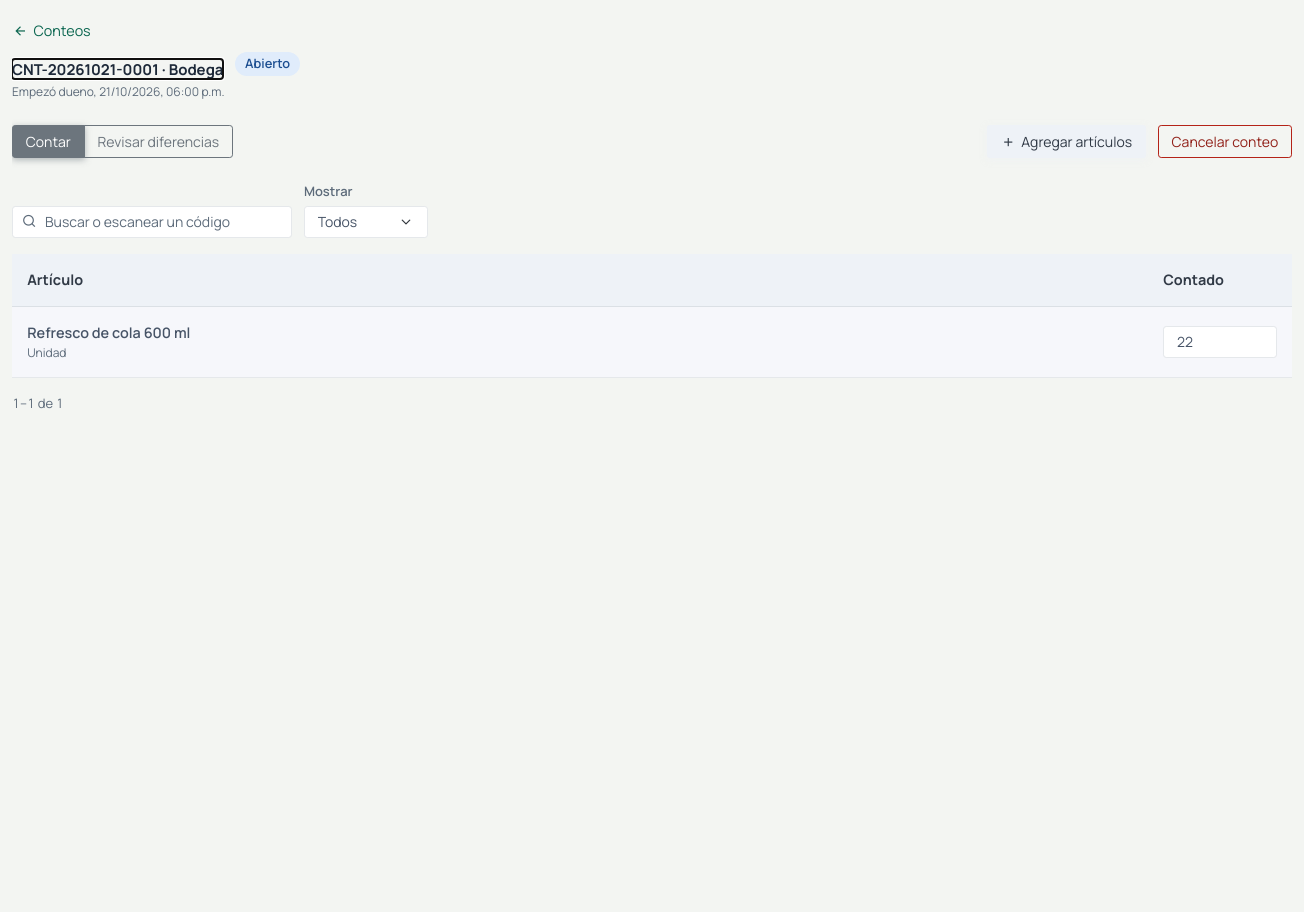
it: CountDetail › does not post when the question is declined, and says why the API refused
The width and height of the screenshot is (1304, 912).
Click the button "Revisar diferencias": (158, 142) [84,125,233,158]
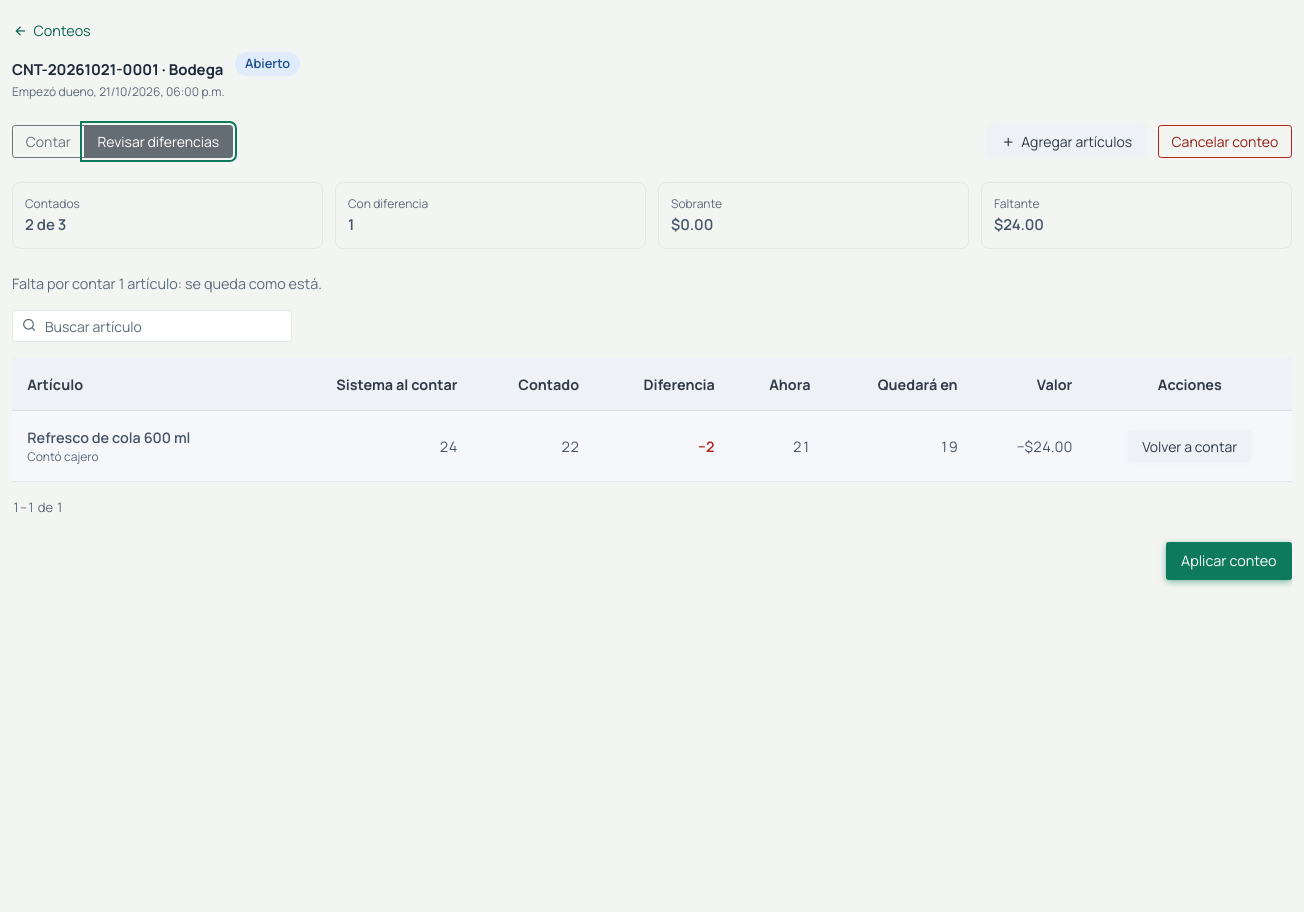
Click the button "Aplicar conteo": (1229, 561) [1166,542,1292,580]
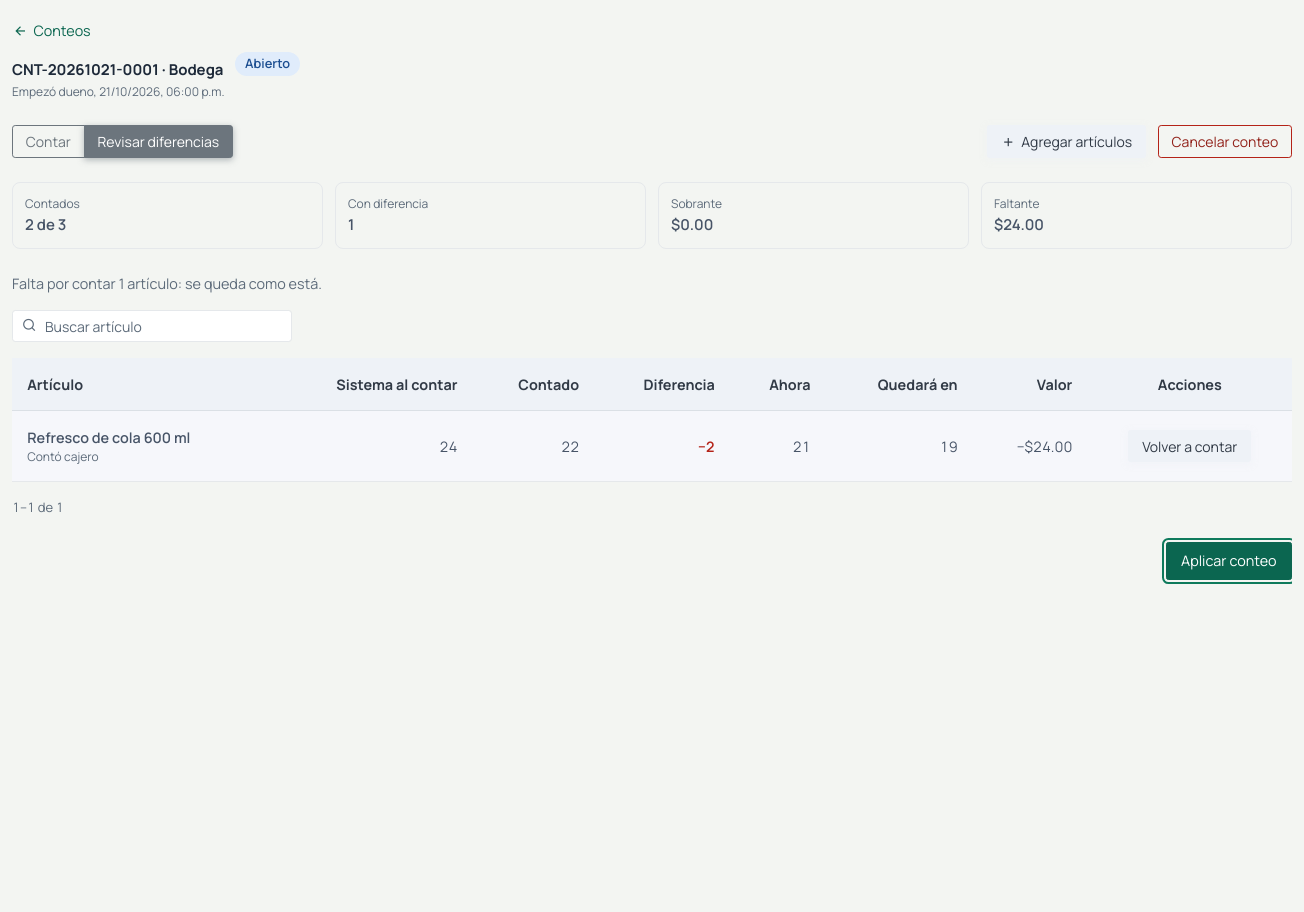
Click the button "Aplicar conteo": (1229, 561) [1166,542,1292,580]
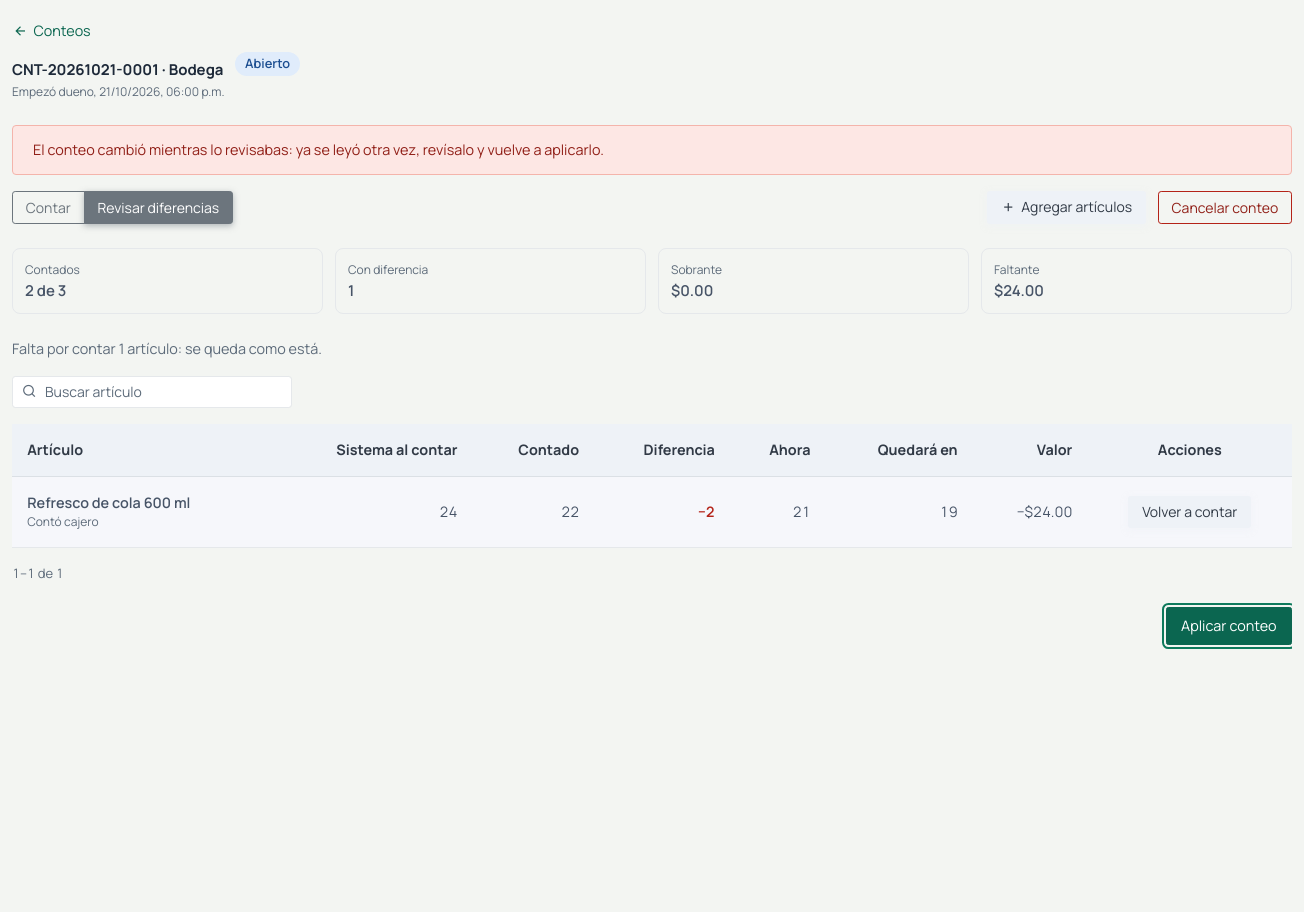
Expected: the message shows "El conteo cambió mientras lo revisabas: ya se leyó otra vez, revísalo y vuelve a aplicarlo.", [33,140,604,159]
